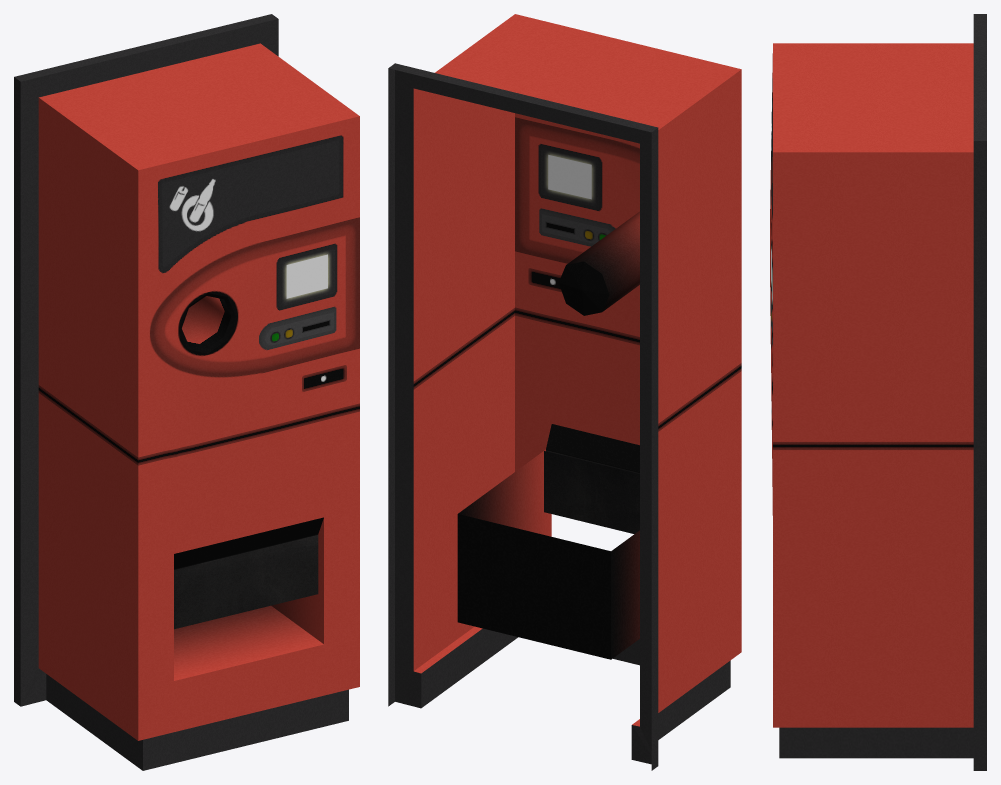
The model's file is Einrichtung_Pfandautomat.fbx.
The picture shows the model from 3 angles, left to right: view 1: azimuth 30°, elevation 25°; view 2: azimuth 150°, elevation 25°; view 3: azimuth 270°, elevation 25°; orthographic projection. The views are drawn at different scales.
Visible parts, largest first — view 1: pfand; view 2: pfand; view 3: pfand.
Boxes of the visible parts, x1,y1,x2,y2 form: pfand: (14,14,359,770); pfand: (388,14,741,770); pfand: (770,14,986,770).
Bounding box in the file's own units: 94.56 × 219 × 68.34.
